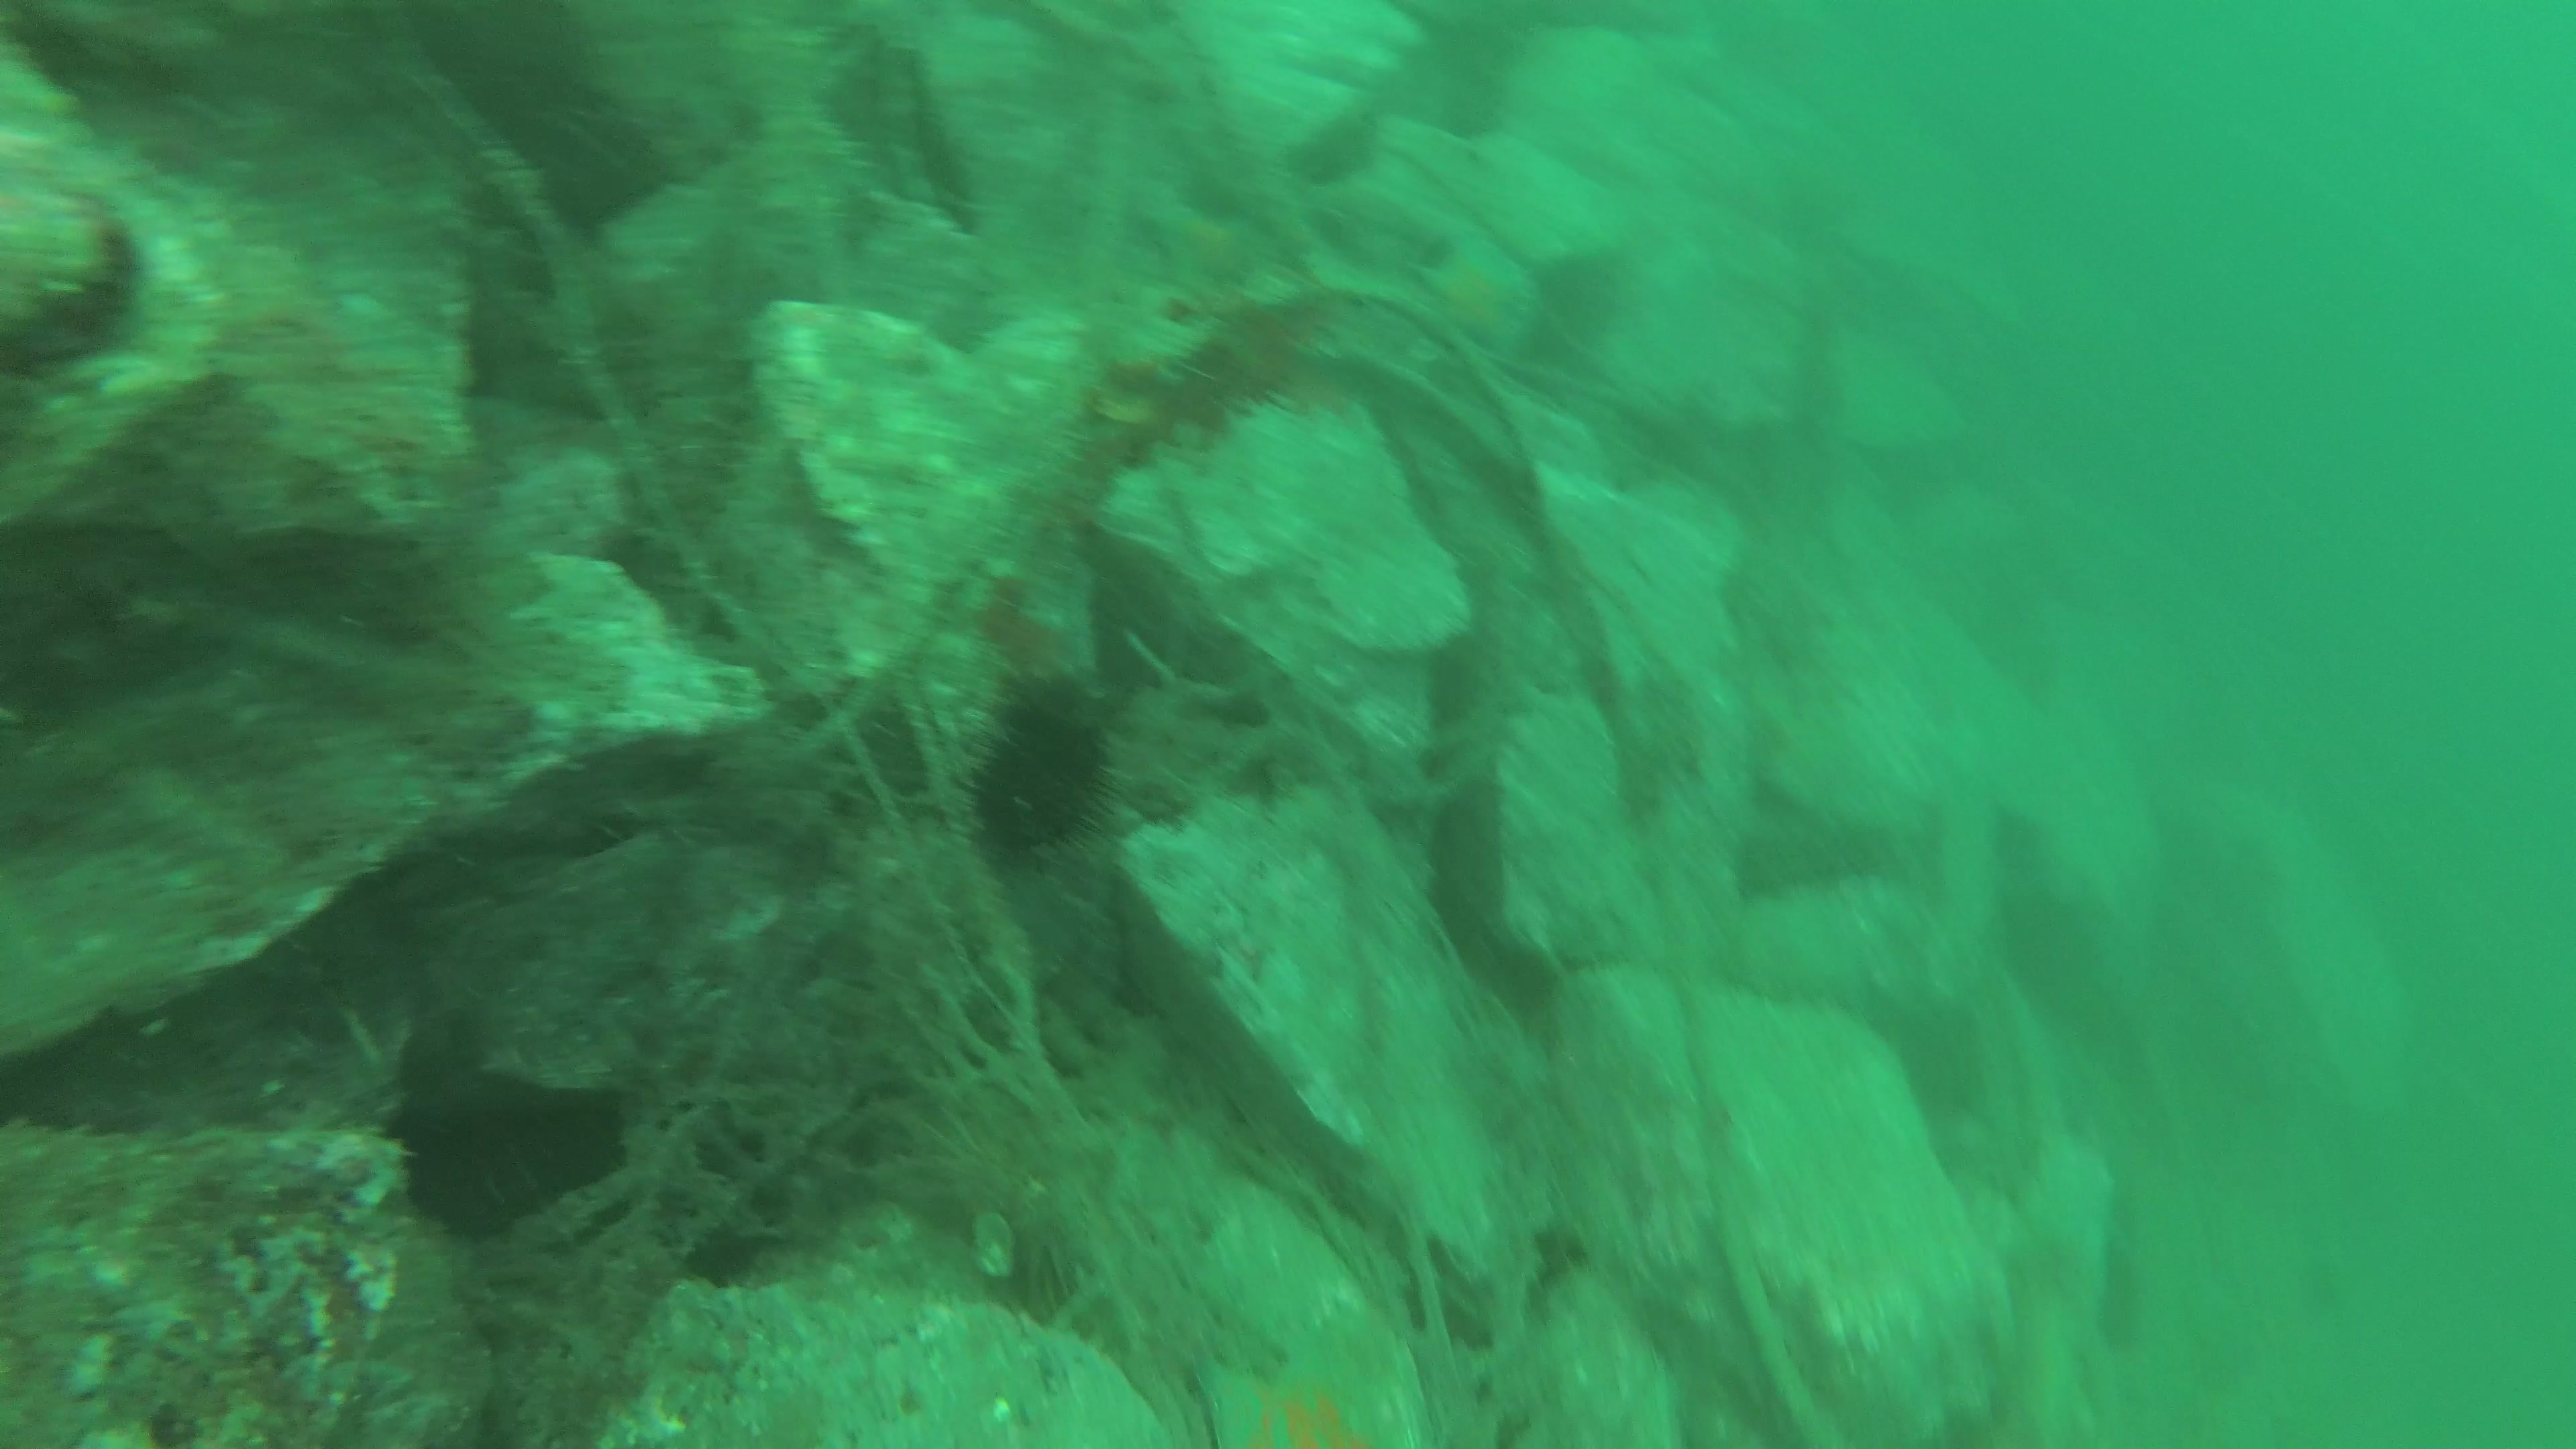echinus: (971, 685, 1120, 860)
starfish: (1185, 1297, 1403, 1449), (1127, 184, 1299, 299), (1412, 228, 1543, 350)
